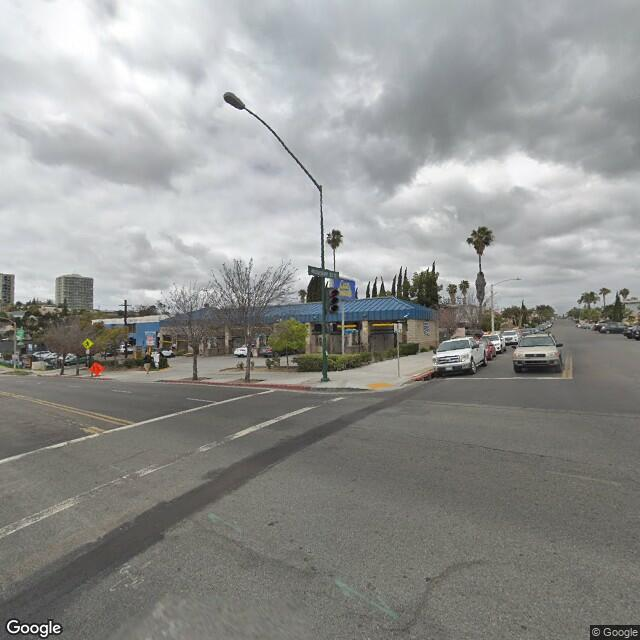light: (218, 92, 248, 110)
